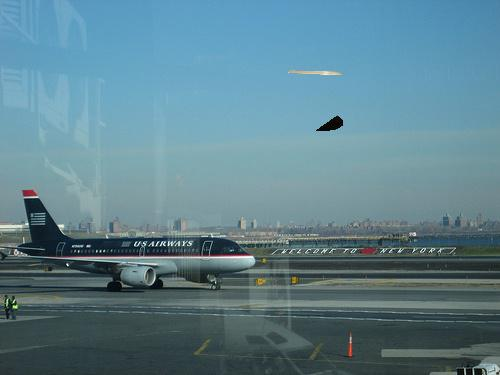tampered: (289, 71, 343, 131)
